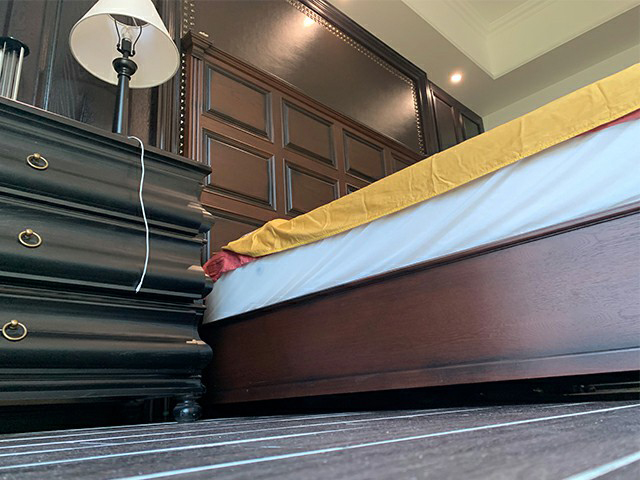bed: (199, 62, 640, 417)
cabinet: (1, 93, 213, 424)
